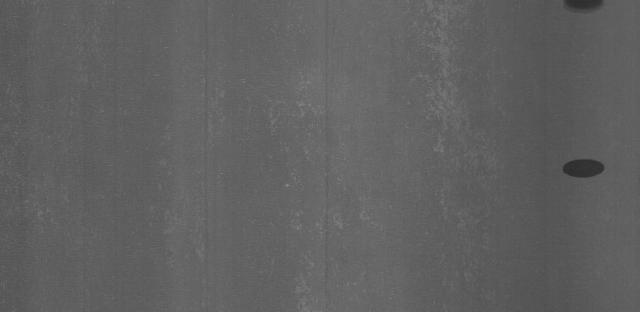oil_spot: (556, 151, 616, 188), (556, 0, 613, 22)
